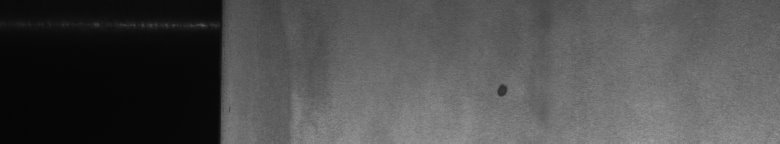fi: (492, 76, 512, 104)
